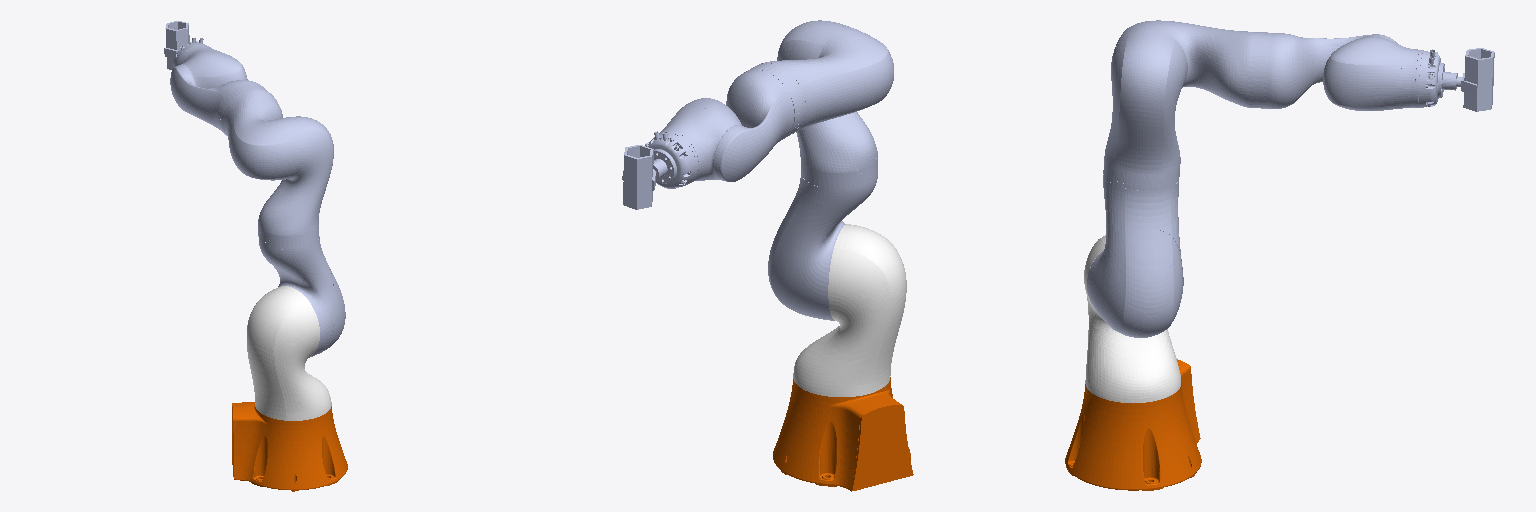
The robot description file, URDF, robot "new_mod":
<?xml version="1.0" encoding="utf-8"?>
<!-- This URDF was automatically created by SolidWorks to URDF Exporter! Originally created by [author] ([email redacted]) 
     Commit Version: 1.5.1-0-g916b5db  Build Version: 1.5.7152.31018
     For more information, please see http://wiki.ros.org/sw_urdf_exporter -->
<robot
  name="new_mod">
  <link
    name="base_link">
    <inertial>
      <origin
        xyz="-0.011338 0.071506 -0.0059891"
        rpy="0 0 0" />
      <mass
        value="5.4761" />
      <inertia
        ixx="0.02569"
        ixy="0.00059767"
        ixz="-0.0027165"
        iyy="0.033479"
        iyz="0.00031576"
        izz="0.029398" />
    </inertial>
    <visual>
      <origin
        xyz="0 0 0"
        rpy="0 0 0" />
      <geometry>
        <mesh
          filename="package://new_mod/meshes/base_link.STL" />
      </geometry>
      <material
        name="">
        <color
          rgba="0.9098 0.44314 0.031373 1" />
      </material>
    </visual>
    <collision>
      <origin
        xyz="0 0 0"
        rpy="0 0 0" />
      <geometry>
        <mesh
          filename="package://new_mod/meshes/base_link.STL" />
      </geometry>
    </collision>
  </link>
  <link
    name="link_1">
    <inertial>
      <origin
        xyz="2.414E-06 -0.033791 0.13288"
        rpy="0 0 0" />
      <mass
        value="4.1084" />
      <inertia
        ixx="0.032979"
        ixy="9.4112E-07"
        ixz="-9.7162E-07"
        iyy="0.033271"
        iyz="0.004923"
        izz="0.012325" />
    </inertial>
    <visual>
      <origin
        xyz="0 0 0"
        rpy="0 0 0" />
      <geometry>
        <mesh
          filename="package://new_mod/meshes/link_1.STL" />
      </geometry>
      <material
        name="">
        <color
          rgba="1 1 1 1" />
      </material>
    </visual>
    <collision>
      <origin
        xyz="0 0 0"
        rpy="0 0 0" />
      <geometry>
        <mesh
          filename="package://new_mod/meshes/link_1.STL" />
      </geometry>
    </collision>
  </link>
  <joint
    name="j1"
    type="continuous">
    <origin
      xyz="0 0 0.14702"
      rpy="0 0 -1.3284" />
    <parent
      link="base_link" />
    <child
      link="link_1" />
    <axis
      xyz="0 0 1" />
    <limit
      lower="-2.96"
      upper="2.96"
      effort="300"
      velocity="10" />
    <dynamics
      damping="0.5" />
  </joint>
  <link
    name="link_2">
    <inertial>
      <origin
        xyz="0.0001613 0.041985 0.058808"
        rpy="0 0 0" />
      <mass
        value="3.9504" />
      <inertia
        ixx="0.030593"
        ixy="-2.2422E-05"
        ixz="3.3296E-05"
        iyy="0.030418"
        iyz="0.0048863"
        izz="0.011016" />
    </inertial>
    <visual>
      <origin
        xyz="0 0 0"
        rpy="0 0 0" />
      <geometry>
        <mesh
          filename="package://new_mod/meshes/link_2.STL" />
      </geometry>
      <material
        name="">
        <color
          rgba="0.79216 0.81961 0.93333 1" />
      </material>
    </visual>
    <collision>
      <origin
        xyz="0 0 0"
        rpy="0 0 0" />
      <geometry>
        <mesh
          filename="package://new_mod/meshes/link_2.STL" />
      </geometry>
    </collision>
  </link>
  <joint
    name="j2"
    type="continuous">
    <origin
      xyz="0 0 0.21298"
      rpy="0 -0.07089 0" />
    <parent
      link="link_1" />
    <child
      link="link_2" />
    <axis
      xyz="0 1 0" />
    <limit
      lower="-2.96"
      upper="2.96"
      effort="300"
      velocity="10" />
    <dynamics
      damping="0.5" />
  </joint>
  <link
    name="link_3">
    <inertial>
      <origin
        xyz="2.0176E-06 0.029561 0.13477"
        rpy="0 0 0" />
      <mass
        value="3.1749" />
      <inertia
        ixx="0.025078"
        ixy="-7.8168E-08"
        ixz="-1.1637E-07"
        iyy="0.023807"
        iyz="-0.0048734"
        izz="0.0076079" />
    </inertial>
    <visual>
      <origin
        xyz="0 0 0"
        rpy="0 0 0" />
      <geometry>
        <mesh
          filename="package://new_mod/meshes/link_3.STL" />
      </geometry>
      <material
        name="">
        <color
          rgba="0.79216 0.81961 0.93333 1" />
      </material>
    </visual>
    <collision>
      <origin
        xyz="0 0 0"
        rpy="0 0 0" />
      <geometry>
        <mesh
          filename="package://new_mod/meshes/link_3.STL" />
      </geometry>
    </collision>
  </link>
  <joint
    name="j3"
    type="continuous">
    <origin
      xyz="0 0 0.19624"
      rpy="0 0 -0.35301" />
    <parent
      link="link_2" />
    <child
      link="link_3" />
    <axis
      xyz="0 0 1" />
    <limit
      lower="-2.96"
      upper="2.96"
      effort="300"
      velocity="10" />
    <dynamics
      damping="0.5" />
  </joint>
  <link
    name="link_4">
    <inertial>
      <origin
        xyz="1.4194E-06 -0.034258 0.067429"
        rpy="0 0 0" />
      <mass
        value="2.7392" />
      <inertia
        ixx="0.017201"
        ixy="-6.6574E-08"
        ixz="-8.9875E-08"
        iyy="0.016393"
        iyz="-0.0028452"
        izz="0.006137" />
    </inertial>
    <visual>
      <origin
        xyz="0 0 0"
        rpy="0 0 0" />
      <geometry>
        <mesh
          filename="package://new_mod/meshes/link_4.STL" />
      </geometry>
      <material
        name="">
        <color
          rgba="0.79216 0.81961 0.93333 1" />
      </material>
    </visual>
    <collision>
      <origin
        xyz="0 0 0"
        rpy="0 0 0" />
      <geometry>
        <mesh
          filename="package://new_mod/meshes/link_4.STL" />
      </geometry>
    </collision>
  </link>
  <joint
    name="j4"
    type="continuous">
    <origin
      xyz="0 0 0.22376"
      rpy="0 -1.5047 0" />
    <parent
      link="link_3" />
    <child
      link="link_4" />
    <axis
      xyz="0 1 0" />
    <limit
      lower="-2.96"
      upper="2.96"
      effort="300"
      velocity="10" />
    <dynamics
      damping="0.5" />
  </joint>
  <link
    name="link_5">
    <inertial>
      <origin
        xyz="-0.00012042 -0.021389 0.081997"
        rpy="0 0 0" />
      <mass
        value="1.6935" />
      <inertia
        ixx="0.010078"
        ixy="1.6292E-06"
        ixz="-6.7297E-07"
        iyy="0.0087016"
        iyz="0.00309"
        izz="0.0044686" />
    </inertial>
    <visual>
      <origin
        xyz="0 0 0"
        rpy="0 0 0" />
      <geometry>
        <mesh
          filename="package://new_mod/meshes/link_5.STL" />
      </geometry>
      <material
        name="">
        <color
          rgba="0.79216 0.81961 0.93333 1" />
      </material>
    </visual>
    <collision>
      <origin
        xyz="0 0 0"
        rpy="0 0 0" />
      <geometry>
        <mesh
          filename="package://new_mod/meshes/link_5.STL" />
      </geometry>
    </collision>
  </link>
  <joint
    name="j5"
    type="continuous">
    <origin
      xyz="0 0 0.17798"
      rpy="0 0 -0.063253" />
    <parent
      link="link_4" />
    <child
      link="link_5" />
    <axis
      xyz="0 0 1" />
    <limit
      lower="-2.96"
      upper="2.96"
      effort="300"
      velocity="10" />
    <dynamics
      damping="0.5" />
  </joint>
  <link
    name="link_6">
    <inertial>
      <origin
        xyz="6.6161E-06 0.00034251 0.00063397"
        rpy="0 0 0" />
      <mass
        value="1.8095" />
      <inertia
        ixx="0.0049031"
        ixy="4.276E-07"
        ixz="2.1041E-07"
        iyy="0.0046945"
        iyz="0.00024419"
        izz="0.0035676" />
    </inertial>
    <visual>
      <origin
        xyz="0 0 0"
        rpy="0 0 0" />
      <geometry>
        <mesh
          filename="package://new_mod/meshes/link_6.STL" />
      </geometry>
      <material
        name="">
        <color
          rgba="0.79216 0.81961 0.93333 1" />
      </material>
    </visual>
    <collision>
      <origin
        xyz="0 0 0"
        rpy="0 0 0" />
      <geometry>
        <mesh
          filename="package://new_mod/meshes/link_6.STL" />
      </geometry>
    </collision>
  </link>
  <joint
    name="j6"
    type="continuous">
    <origin
      xyz="0 0 0.22202"
      rpy="0 -0.028951 0" />
    <parent
      link="link_5" />
    <child
      link="link_6" />
    <axis
      xyz="0 1 0" />
    <limit
      lower="-2.96"
      upper="2.96"
      effort="300"
      velocity="10" />
    <dynamics
      damping="0.5" />
  </joint>
  <link
    name="end_effector">
    <inertial>
      <origin
        xyz="0.0001229 0.049672 1.3559E-05"
        rpy="0 0 0" />
      <mass
        value="0.43846" />
      <inertia
        ixx="0.0002899"
        ixy="-2.8273E-07"
        ixz="-1.4763E-05"
        iyy="0.00046203"
        iyz="1.6452E-07"
        izz="0.00034491" />
    </inertial>
    <visual>
      <origin
        xyz="0 0 0"
        rpy="0 0 0" />
      <geometry>
        <mesh
          filename="package://new_mod/meshes/end_effector.STL" />
      </geometry>
      <material
        name="">
        <color
          rgba="0.79216 0.81961 0.93333 1" />
      </material>
    </visual>
    <collision>
      <origin
        xyz="0 0 0"
        rpy="0 0 0" />
      <geometry>
        <mesh
          filename="package://new_mod/meshes/end_effector.STL" />
      </geometry>
    </collision>
  </link>
  <joint
    name="j7"
    type="continuous">
    <origin
      xyz="0 0 0.07195"
      rpy="1.5708 0 0.30343" />
    <parent
      link="link_6" />
    <child
      link="end_effector" />
    <axis
      xyz="0 1 0" />
    <limit
      lower="-2.96"
      upper="2.96"
      effort="300"
      velocity="10" />
    <dynamics
      damping="0.5" />
  </joint>
</robot>

--- What the picture shows (computed from the rendered views, not written in the file) ---
3 views of the same robot in one strip: view 1: azimuth 30°, elevation 25°; view 2: azimuth 150°, elevation 25°; view 3: azimuth 270°, elevation 25° (orthographic).
Model new_mod with 8 links and 7 joints (7 continuous), rooted at base_link, posed all joints at 0.
Links seen in each view (by area): view 1: link_1, base_link, link_3, link_4, link_2, link_5, link_6, end_effector; view 2: link_1, base_link, link_2, link_4, link_5, link_3, end_effector, link_6; view 3: link_2, base_link, link_3, link_1, link_6, link_5, link_4, end_effector.
Boxes of the visible links, <box> form: link_1: <box>247,286,331,420</box>; base_link: <box>232,402,347,491</box>; link_3: <box>258,116,333,249</box>; link_4: <box>223,89,296,180</box>; link_2: <box>259,236,345,357</box>; link_5: <box>170,64,270,135</box>; link_6: <box>177,45,247,88</box>; end_effector: <box>164,21,206,69</box>; link_1: <box>793,224,906,396</box>; base_link: <box>773,377,913,491</box>; link_2: <box>768,174,877,320</box>; link_4: <box>761,26,893,133</box>; link_5: <box>713,63,805,181</box>; link_3: <box>777,20,877,188</box>; end_effector: <box>622,131,698,209</box>; link_6: <box>661,98,741,181</box>; link_2: <box>1087,174,1183,337</box>; base_link: <box>1065,359,1201,490</box>; link_3: <box>1103,30,1187,190</box>; link_1: <box>1084,235,1180,402</box>; link_6: <box>1323,37,1419,110</box>; link_5: <box>1248,32,1397,108</box>; link_4: <box>1114,20,1253,107</box>; end_effector: <box>1415,48,1494,111</box>.
Size in the robot's own frame: 0.2806 by 0.7649 by 0.8471 metres.
8 mesh visuals loaded from 8 distinct referenced files (8 binary STL).